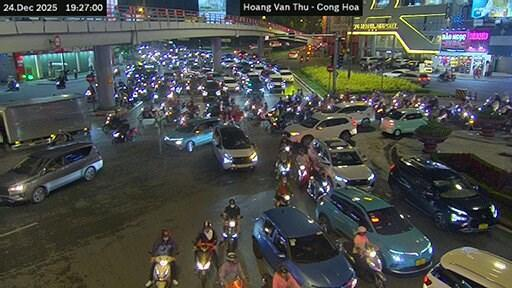motorbike: (342, 241, 386, 287), (195, 242, 214, 287), (153, 255, 173, 287), (306, 175, 330, 199), (220, 217, 236, 252), (103, 113, 127, 131), (112, 127, 137, 143), (48, 131, 73, 144), (297, 163, 309, 188), (137, 107, 157, 120), (275, 162, 290, 178), (275, 193, 290, 207), (221, 278, 243, 287), (438, 72, 454, 80), (7, 81, 19, 90), (56, 80, 64, 88), (220, 215, 221, 216)
